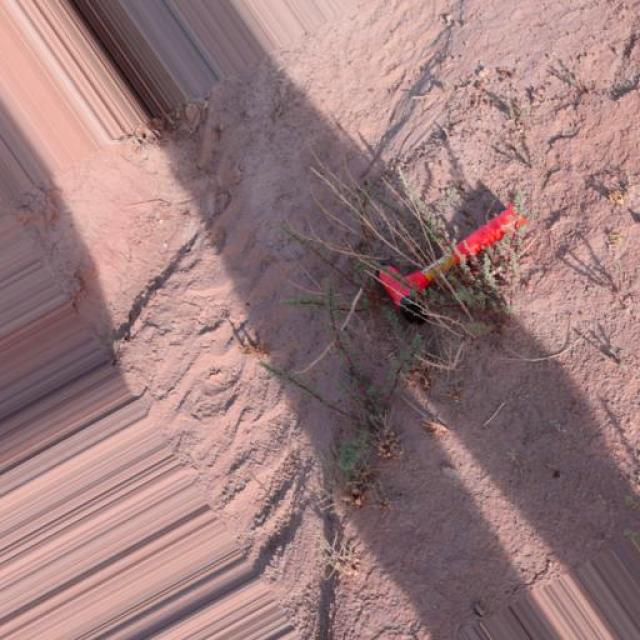mallet: (376, 200, 530, 324)
